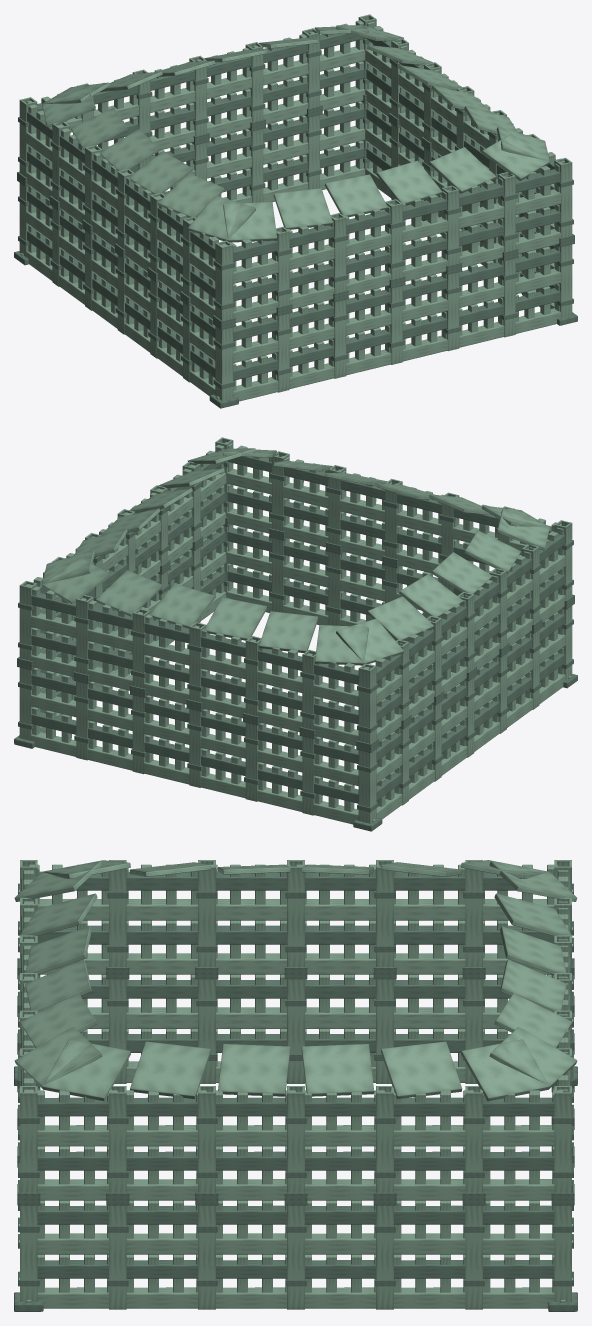
3 views of the same model, one above another, from view 1: azimuth 30°, elevation 25°; view 2: azimuth 150°, elevation 25°; view 3: azimuth 270°, elevation 25° (orthographic). The views are drawn at different scales.
Parts seen in each view (by area): view 1: Crown alloy petal 0-1, Crown alloy petal 0-2, Crown alloy petal 0-3, Crown alloy petal 0-4, Crown alloy petal 3-4, Crown alloy petal 0-0, Crown alloy petal 3-3, Crown alloy petal 3-5, Crown alloy petal 0-5, Crown alloy petal 3-2, Crown alloy petal 3-1, Tier 1 side 0 post 0 (+110 smaller); view 2: Crown alloy petal 2-4, Crown alloy petal 2-3, Crown alloy petal 2-2, Crown alloy petal 2-1, Crown alloy petal 3-1, Crown alloy petal 2-5, Crown alloy petal 3-2, Crown alloy petal 3-0, Crown alloy petal 2-0, Crown alloy petal 3-3, Crown alloy petal 3-4, Tier 1 side 3 post 0 (+111 smaller); view 3: Crown alloy petal 1-4, Crown alloy petal 1-1, Crown alloy petal 1-2, Crown alloy petal 1-3, Crown alloy petal 1-5, Crown alloy petal 1-0, Crown alloy petal 0-5, Crown alloy petal 2-0, Crown alloy petal 2-1, Crown alloy petal 0-4, Crown alloy petal 0-3, Crown alloy petal 2-2 (+114 smaller).
Part boxes in pixels (box(x1,y1,x2,y2)): Crown alloy petal 0-1: box(273, 188, 332, 229); Crown alloy petal 0-2: box(324, 174, 387, 216); Crown alloy petal 0-3: box(376, 160, 442, 204); Crown alloy petal 0-4: box(429, 147, 496, 193); Crown alloy petal 3-4: box(158, 173, 224, 217); Crown alloy petal 0-0: box(223, 202, 277, 242); Crown alloy petal 3-3: box(128, 151, 192, 194); Crown alloy petal 3-5: box(188, 195, 255, 240); Crown alloy petal 0-5: box(482, 134, 549, 180); Crown alloy petal 3-2: box(99, 129, 160, 171); Crown alloy petal 3-1: box(71, 107, 127, 150); Tier 1 side 0 post 0: box(215, 240, 233, 320); Crown alloy petal 2-4: box(259, 611, 318, 652); Crown alloy petal 2-3: box(204, 597, 267, 640); Crown alloy petal 2-2: box(150, 583, 215, 628); Crown alloy petal 2-1: box(96, 570, 162, 616); Crown alloy petal 3-1: box(367, 596, 434, 640); Crown alloy petal 2-5: box(314, 625, 368, 665); Crown alloy petal 3-2: box(399, 574, 463, 617); Crown alloy petal 3-0: box(336, 618, 403, 663); Crown alloy petal 2-0: box(42, 557, 109, 603); Crown alloy petal 3-3: box(431, 552, 492, 594); Crown alloy petal 3-4: box(464, 530, 521, 573); Tier 1 side 3 post 0: box(358, 663, 376, 743); Crown alloy petal 1-4: box(381, 1041, 462, 1098); Crown alloy petal 1-1: box(130, 1041, 210, 1098); Crown alloy petal 1-2: box(218, 1044, 290, 1096); Crown alloy petal 1-3: box(301, 1044, 374, 1096); Crown alloy petal 1-5: box(461, 1039, 549, 1101); Crown alloy petal 1-0: box(42, 1039, 130, 1101); Crown alloy petal 0-5: box(14, 1027, 102, 1088); Crown alloy petal 2-0: box(489, 1027, 577, 1088); Crown alloy petal 2-1: box(494, 993, 572, 1048); Crown alloy petal 0-4: box(19, 993, 97, 1048); Crown alloy petal 0-3: box(25, 959, 91, 1012); Crown alloy petal 2-2: box(500, 959, 566, 1012).
Size of the model in its own units: 2.85 by 1.32 by 2.85.
Materials: 2 (2 with a texture image).
